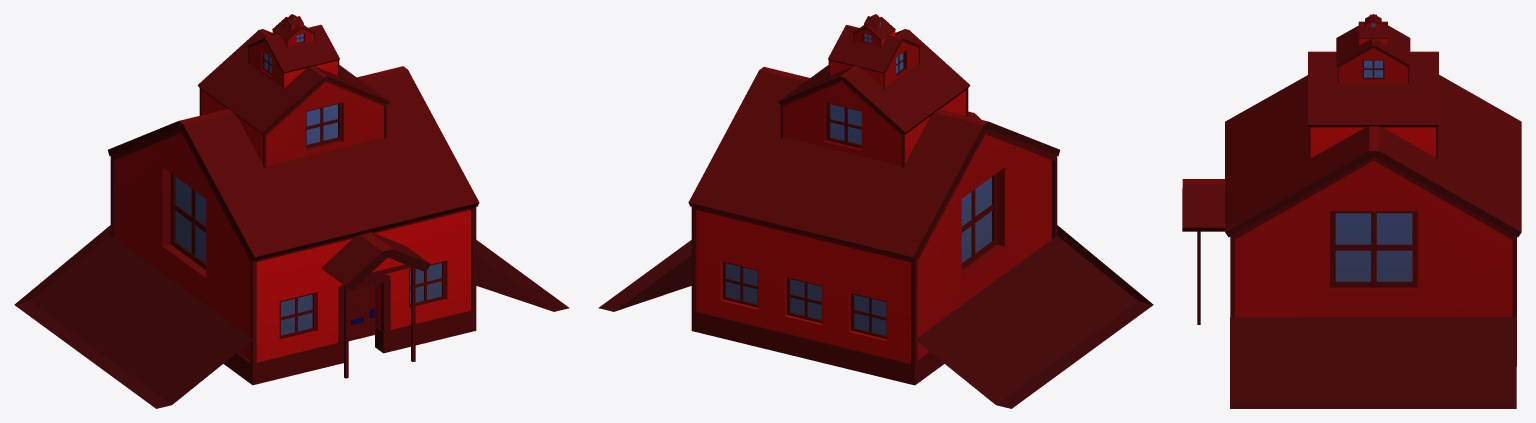
The model's file is buildings-residential-recursivehouse_v1.fbx.
3 views of the same model, side by side, from view 1: azimuth 30°, elevation 25°; view 2: azimuth 150°, elevation 25°; view 3: azimuth 270°, elevation 25° (orthographic).
Visible parts, largest first — view 1: RecursiveHouse_base, RecursiveHouse_windowRefl; view 2: RecursiveHouse_base, RecursiveHouse_windowRefl; view 3: RecursiveHouse_base, RecursiveHouse_windowRefl.
Boxes of the visible parts, bbox=[...] form: RecursiveHouse_base: bbox=[14, 14, 569, 408]; RecursiveHouse_windowRefl: bbox=[175, 18, 441, 335]; RecursiveHouse_base: bbox=[598, 14, 1153, 408]; RecursiveHouse_windowRefl: bbox=[726, 18, 991, 335]; RecursiveHouse_base: bbox=[1182, 14, 1521, 408]; RecursiveHouse_windowRefl: bbox=[1335, 23, 1412, 281].
Bounding box in the file's own units: 18.31 × 12.3 × 12.9.
